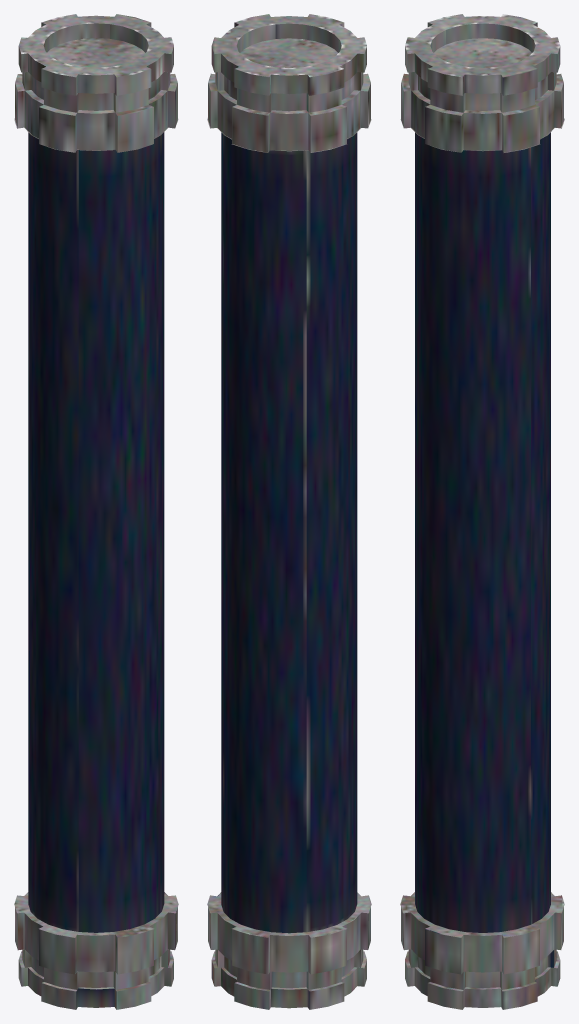
Rendered from fakel.fbx.
3 views of the same model, side by side, from view 1: azimuth 30°, elevation 25°; view 2: azimuth 150°, elevation 25°; view 3: azimuth 270°, elevation 25° (orthographic).
Parts seen in each view (by area): view 1: Cylinder.003; view 2: Cylinder.003; view 3: Cylinder.003.
Part boxes in pixels (x1,y1,x2,y2): Cylinder.003: [14, 14, 178, 1009]; Cylinder.003: [207, 14, 371, 1009]; Cylinder.003: [400, 14, 564, 1009].
Size of the model in its own units: 26.18 by 170 by 27.1.
1 material, 1 textured.
